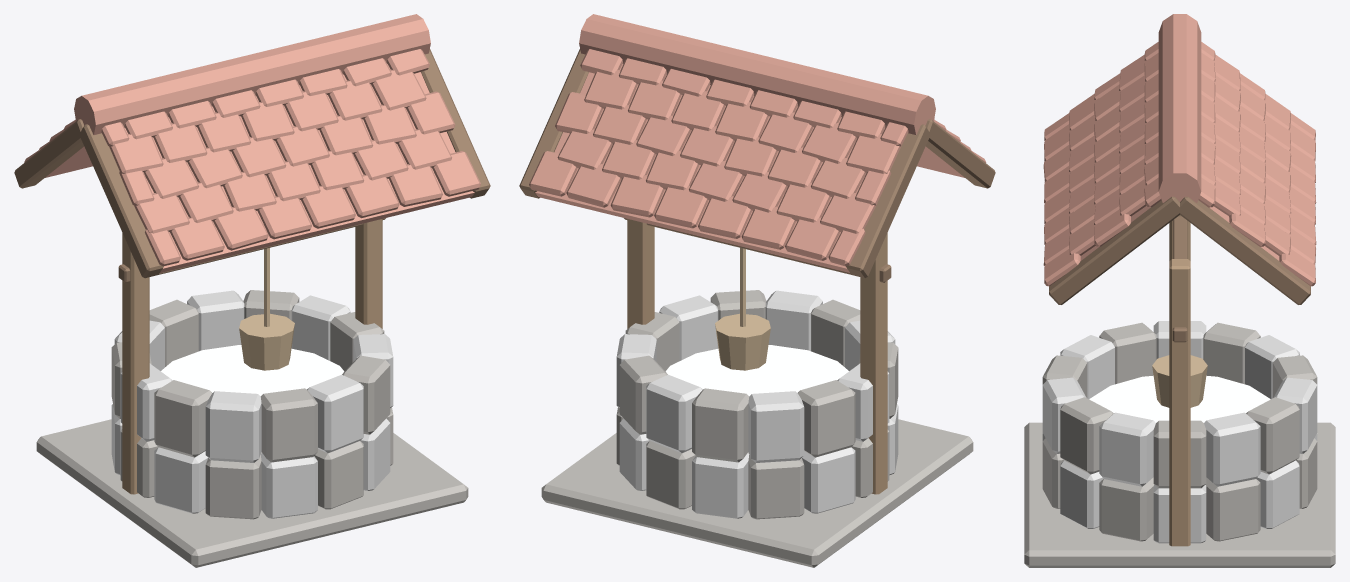
Rendered from prop_well.glb.
3 renders of one model, left to right at view 1: azimuth 30°, elevation 25°; view 2: azimuth 150°, elevation 25°; view 3: azimuth 270°, elevation 25°, orthographic. The views are drawn at different scales.
Parts seen in each view (by area): view 1: prop_well; view 2: prop_well; view 3: prop_well.
Part boxes in pixels (x1,y1,x2,y2): prop_well: (14, 14, 490, 567); prop_well: (519, 14, 995, 567); prop_well: (1024, 14, 1335, 567).
Bounding box in the file's own units: 2.36 × 2.76 × 1.9.
